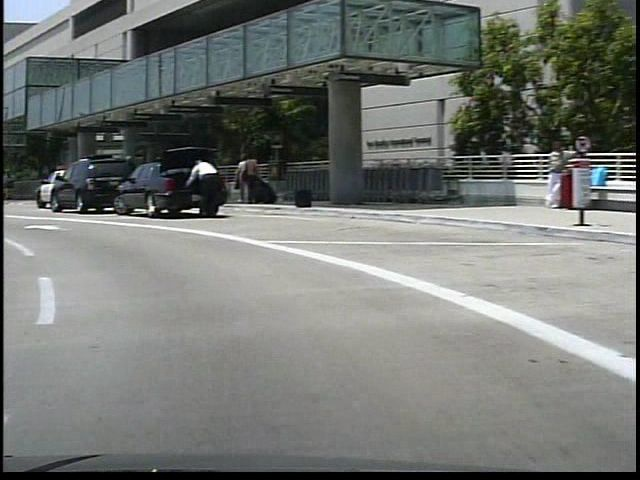person: (180, 158, 221, 224), (237, 154, 256, 209), (228, 154, 246, 208)
